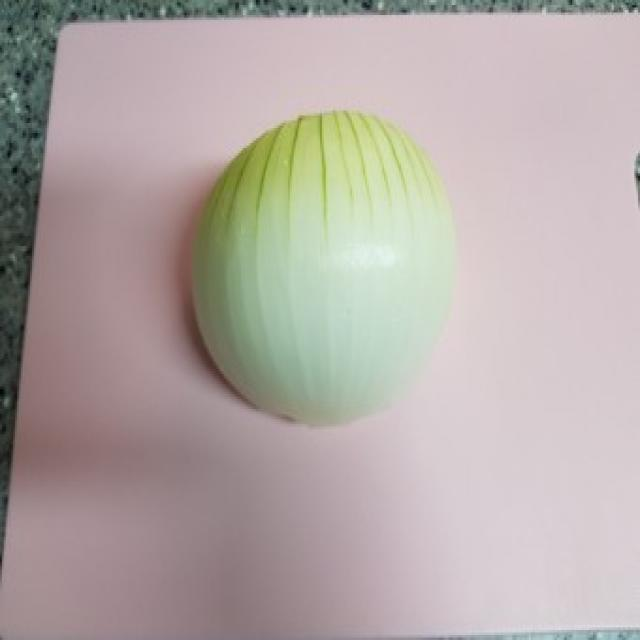Onion: (178, 102, 467, 428)
